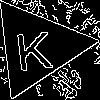K: (12, 22, 54, 71)
